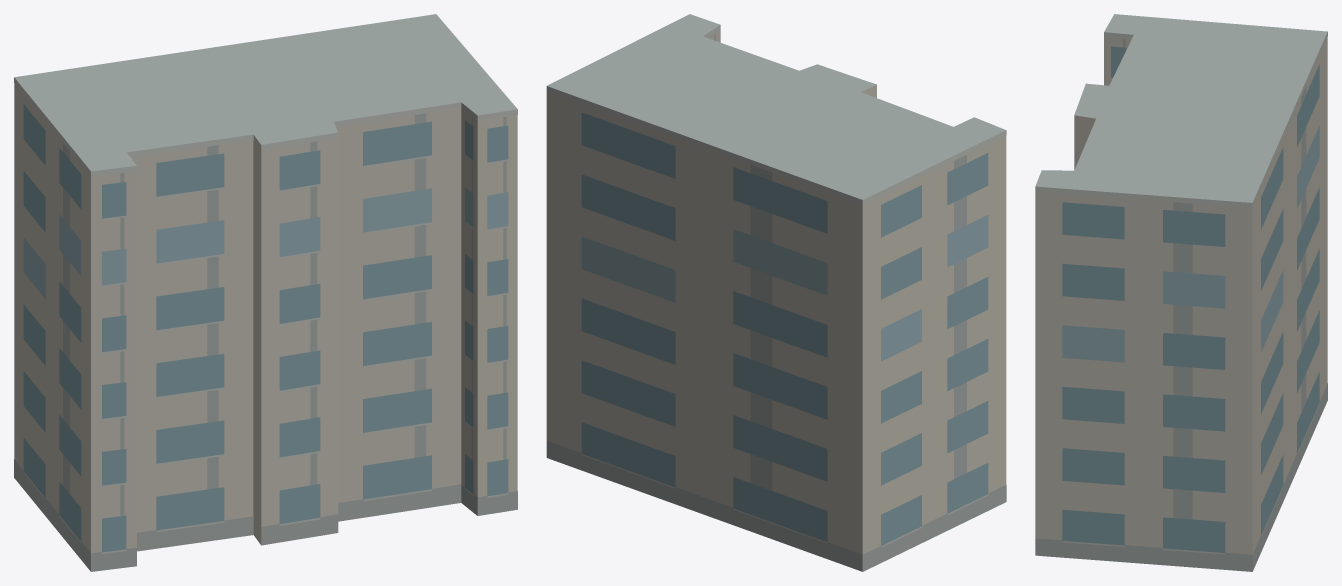
Rendered from survey-upis-32680691.glb.
3 views of the same model, side by side, from view 1: azimuth 30°, elevation 25°; view 2: azimuth 150°, elevation 25°; view 3: azimuth 270°, elevation 25° (orthographic). The views are drawn at different scales.
Parts seen in each view (by area): view 1: survey-upis-32680691.tmp; view 2: survey-upis-32680691.tmp; view 3: survey-upis-32680691.tmp.
Boxes of the visible parts, box(x1,y1,x2,y2) form: survey-upis-32680691.tmp: box(14, 14, 517, 571); survey-upis-32680691.tmp: box(546, 14, 1006, 571); survey-upis-32680691.tmp: box(1035, 14, 1327, 571).
Size of the model in its own units: 19.01 by 17.3 by 12.44.
